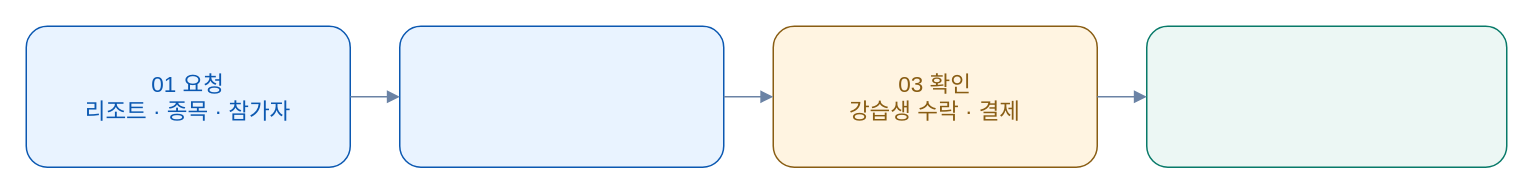
Some shapes in this 1533 by 194 pixel diagram are drawn without their labels. The centre of each missing label's shape, as x and y in pixels:
"02 제안 후보 탐색 · 강사 수락" belongs at point (561, 96).
"04 확정 결제 상태 반영 · 강습" belongs at point (1326, 96).
